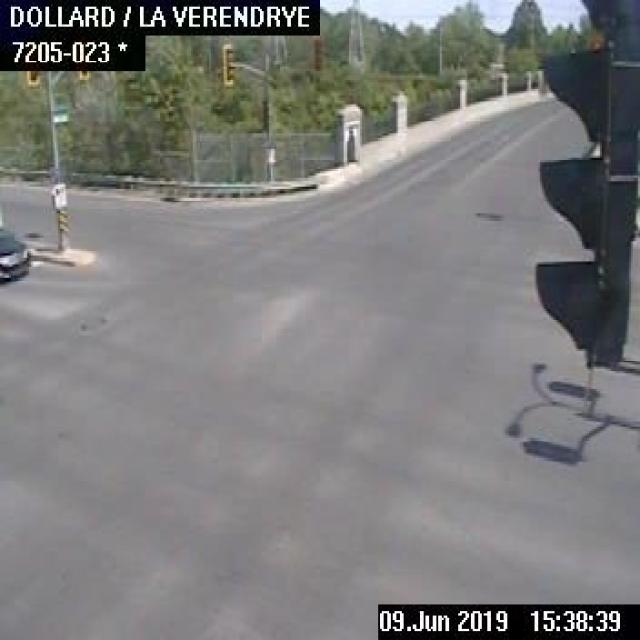vehicle: (0, 220, 31, 282)
